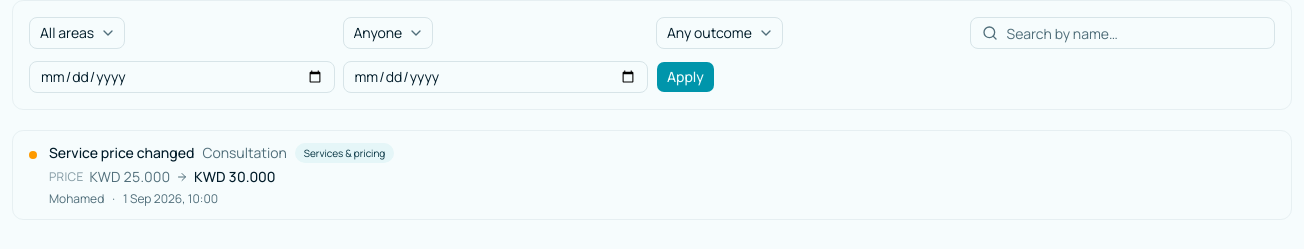
audit log — filtering and pagination › asks the server for a filtered page rather than filtering in the browser
In the field labelled "Search by name…": [1122, 33] box [970, 17, 1275, 49], type "Consultation"
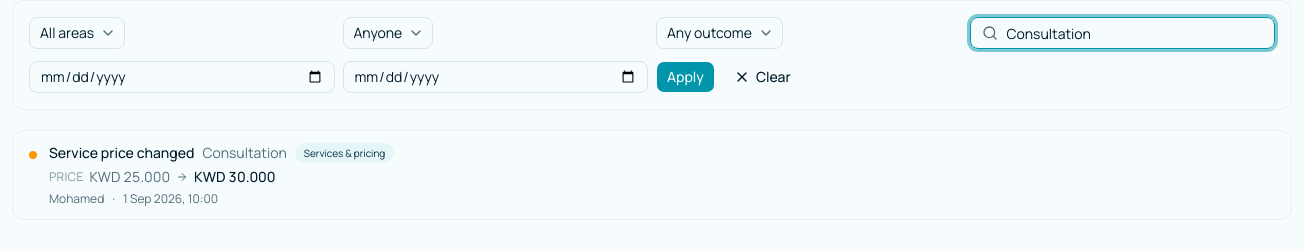
Click the button "Apply": [685, 77] box [656, 61, 715, 93]
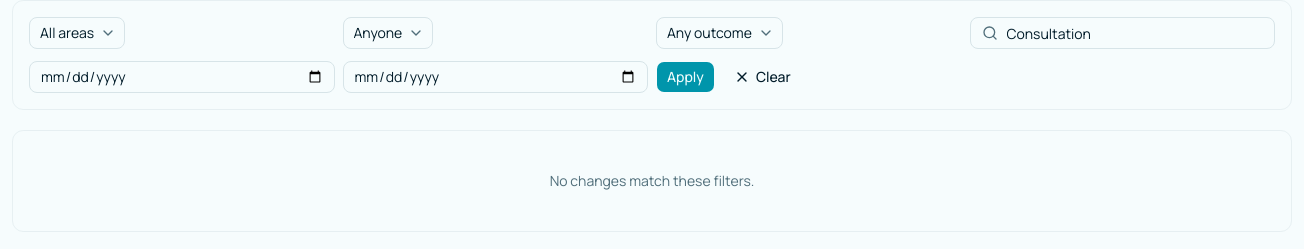
Check: the text "No changes match these filters." is shown, box [12, 130, 1292, 232]
